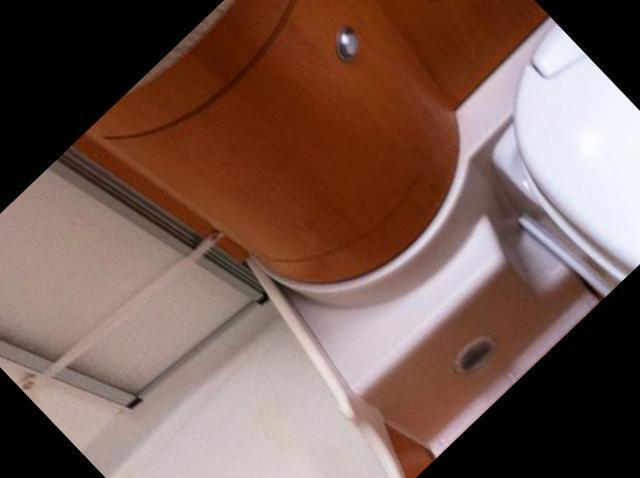Ducha: (0, 40, 502, 478)
Sanitario: (434, 0, 640, 372)
